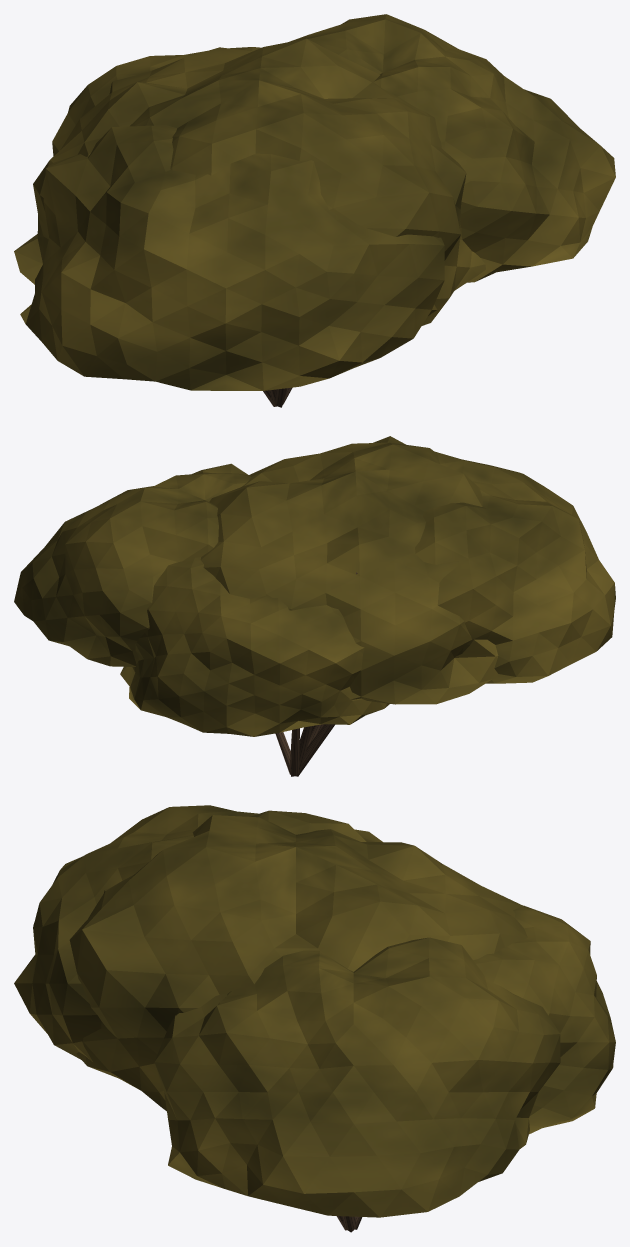
File: bush_L3.glb
The picture shows the model from 3 angles, top to bottom: view 1: azimuth 30°, elevation 25°; view 2: azimuth 150°, elevation 25°; view 3: azimuth 270°, elevation 25°; orthographic projection. The views are drawn at different scales.
Size of the model in its own units: 1.81 by 1.01 by 1.53.
2 materials, 2 textured.
